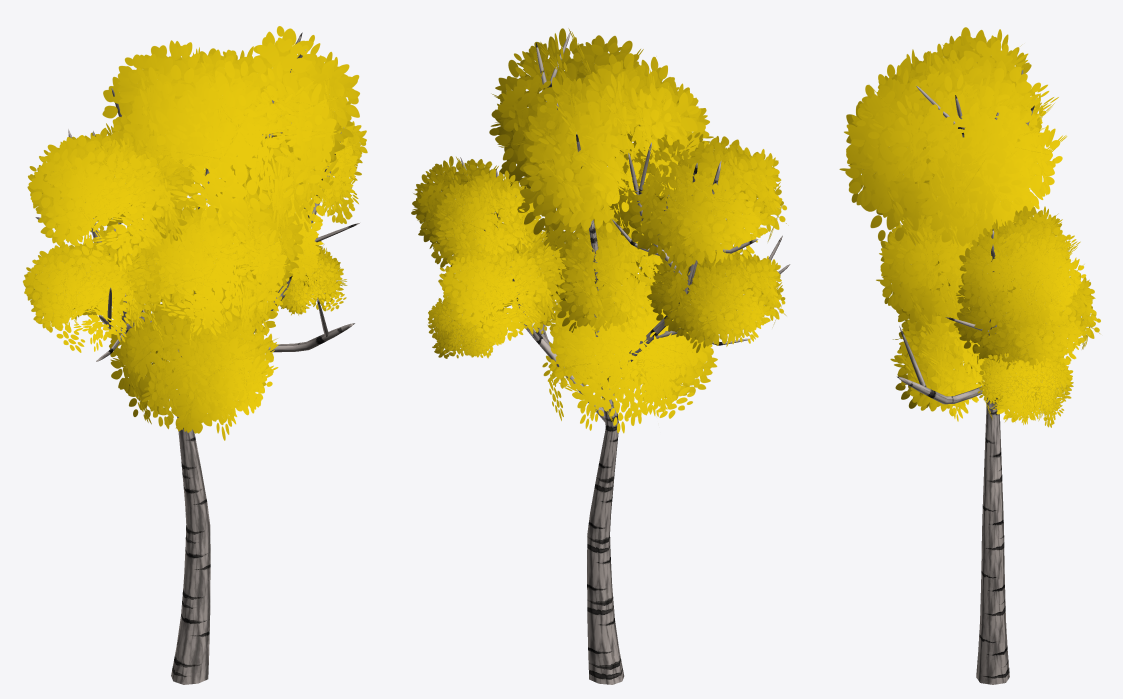
Rendered from BirchTree_3.glb.
3 renders of one model, left to right at view 1: azimuth 30°, elevation 25°; view 2: azimuth 150°, elevation 25°; view 3: azimuth 270°, elevation 25°, orthographic. The views are drawn at different scales.
Parts seen in each view (by area): view 1: BirchTree_3; view 2: BirchTree_3; view 3: BirchTree_3.
Part boxes in pixels (x1,y1,x2,y2): BirchTree_3: (23,26,367,684); BirchTree_3: (411,28,790,684); BirchTree_3: (839,27,1100,684).
Bounding box in the file's own units: 3.43 × 5.75 × 2.27.
Materials: 2 (2 with a texture image).
